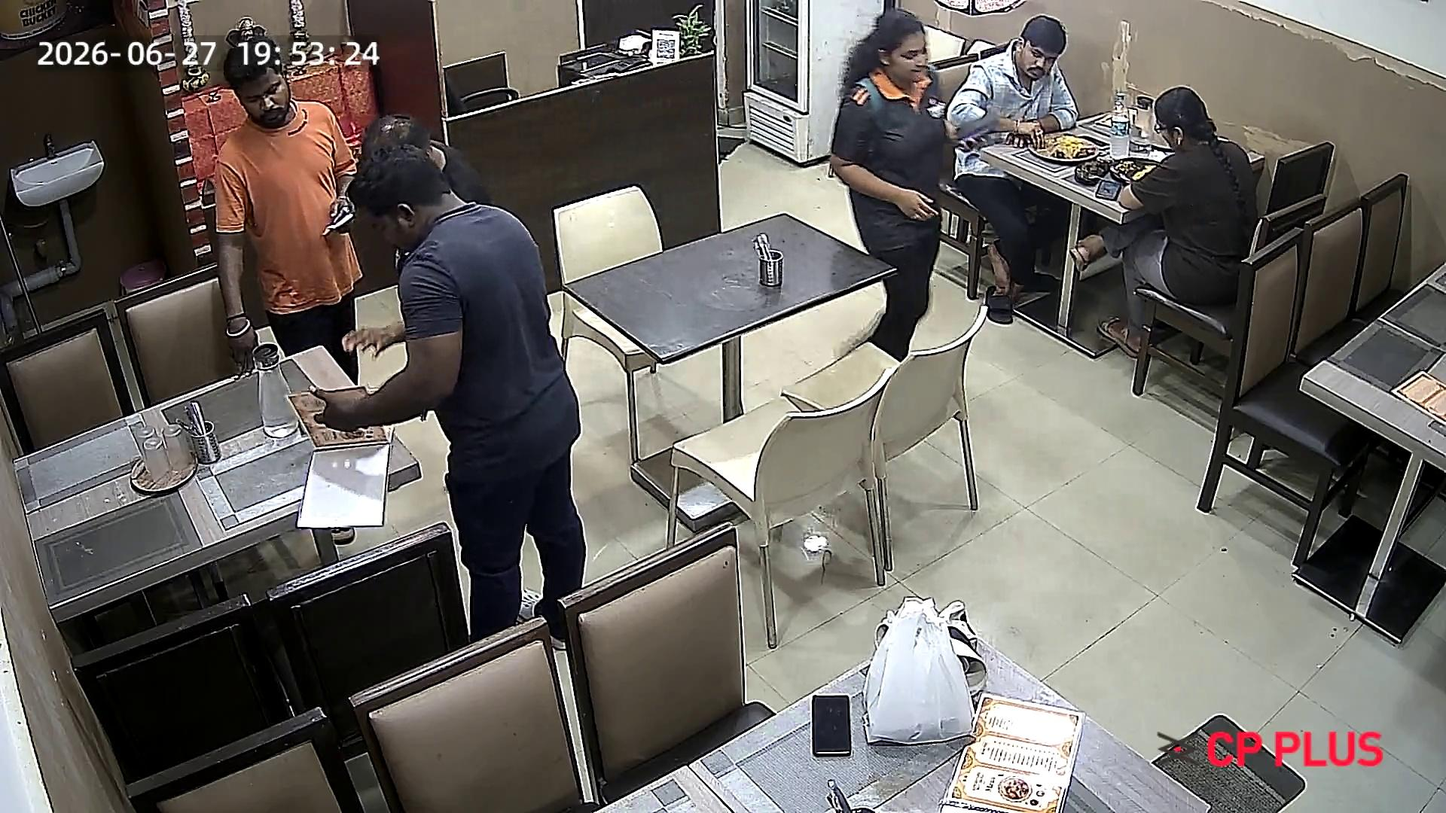clean: (12, 336, 434, 617), (558, 206, 905, 365)
dirty: (487, 604, 1234, 813)
occupied: (941, 65, 1319, 240)
